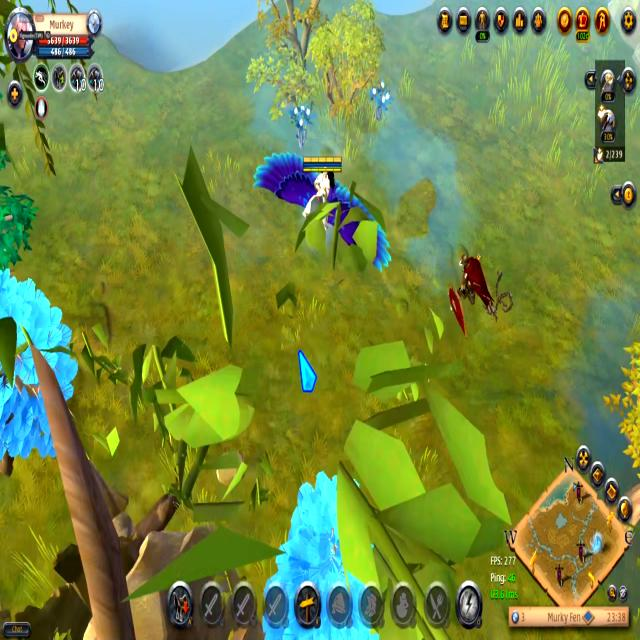hide: (367, 76, 395, 128), (288, 102, 316, 150)
ore: (445, 245, 495, 331)
red: (250, 146, 390, 271)
wisp caged: (258, 465, 407, 640), (0, 266, 78, 467)
